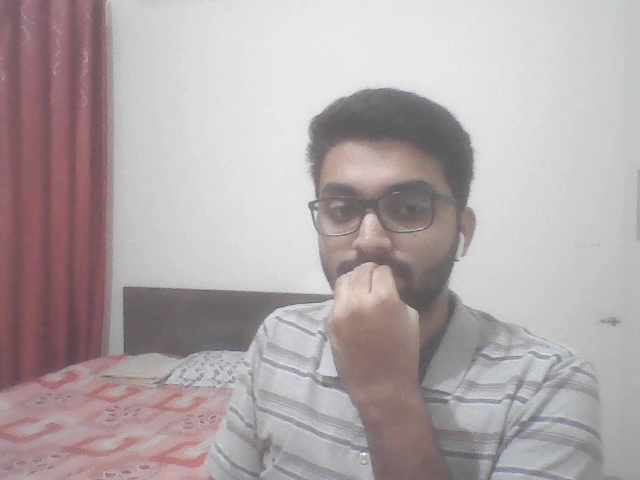eat: (303, 252, 452, 439)
